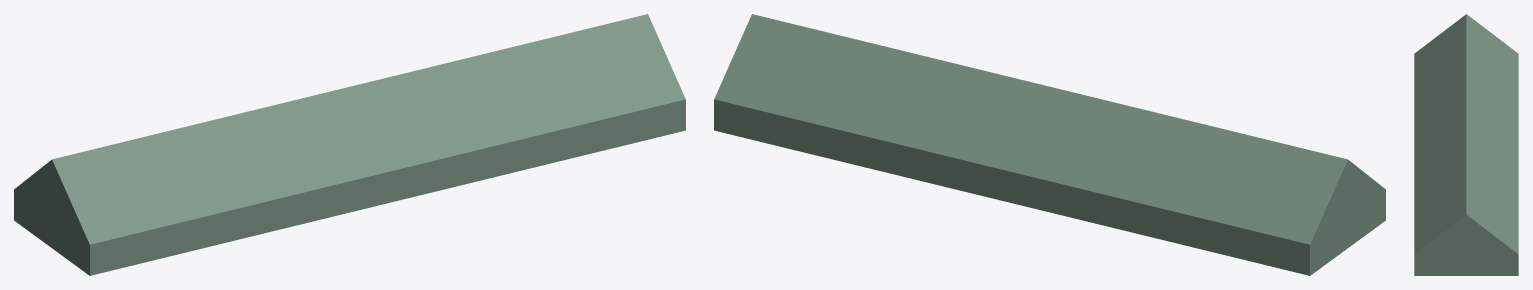
Rendered from cross_ridge_cap.glb.
3 views of the same model, side by side, from view 1: azimuth 30°, elevation 25°; view 2: azimuth 150°, elevation 25°; view 3: azimuth 270°, elevation 25° (orthographic). The views are drawn at different scales.
Parts seen in each view (by area): view 1: cross_ridge_cap_ridge; view 2: cross_ridge_cap_ridge; view 3: cross_ridge_cap_ridge.
Boxes of the visible parts, left/top/right/bottom form: cross_ridge_cap_ridge: left=14, top=14, right=685, bottom=275; cross_ridge_cap_ridge: left=714, top=14, right=1385, bottom=275; cross_ridge_cap_ridge: left=1414, top=14, right=1518, bottom=275.
Size of the model in its own units: 2 by 0.285 by 0.44.
